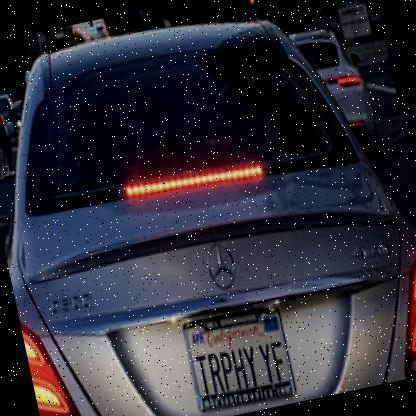License-Plate: (178, 291, 306, 415)
